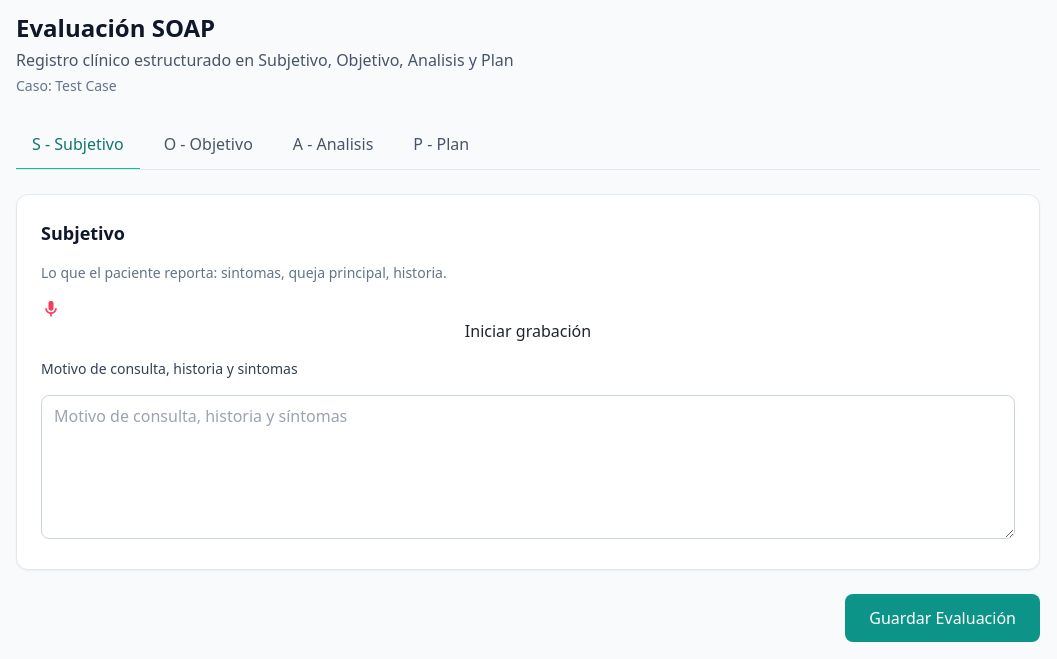
Test case: EvaluationForm SOAP › shows plan guard message when diagnosis is empty
The width and height of the screenshot is (1057, 659).
Click the button "P - Plan".
click(441, 145)  # box [397,120,485,170]
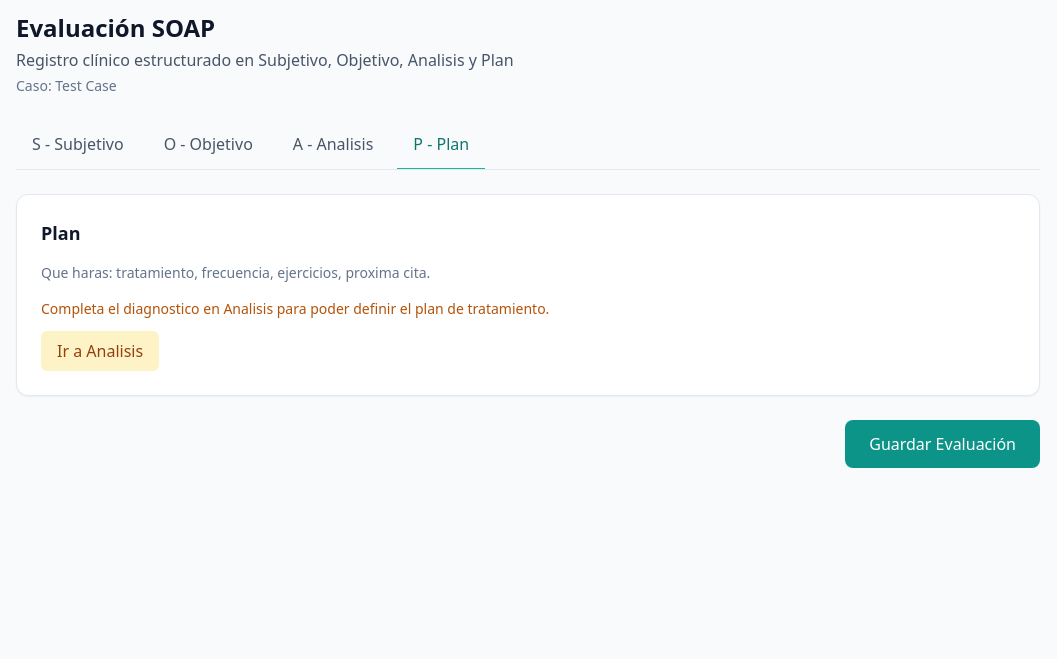
Expected: the text "Completa el diagnostico en Analisis para poder definir el plan de tratamiento" is shown, [41,299,549,318]
